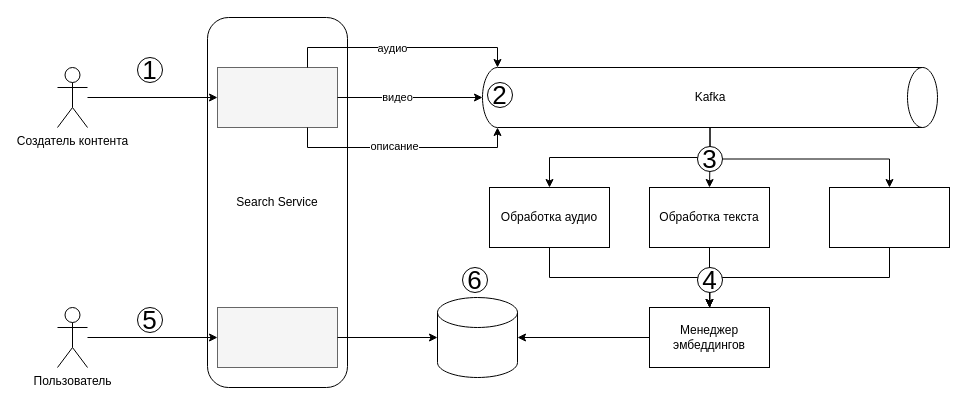
The diagram is 967 pixels wide and 406 high, and some of its shapes have lost their labels. The centre of each missing label's shape, as x and y in pixels:
"/index" belongs at [277,97].
"/search" belongs at [277,337].
"Векторная БД" belongs at [477,337].
"Обработка описания" belongs at [889,217].
